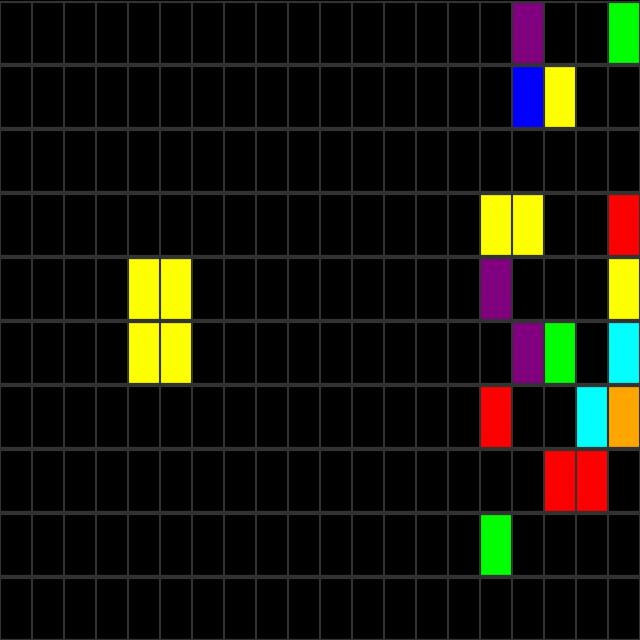Tetrimino_O: (130, 258, 190, 380)
